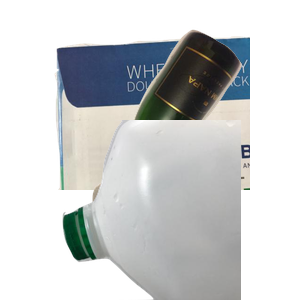glass: (87, 27, 300, 207)
paper: (52, 34, 292, 214)
plastic: (60, 120, 300, 300)
trash: (90, 129, 295, 300)
